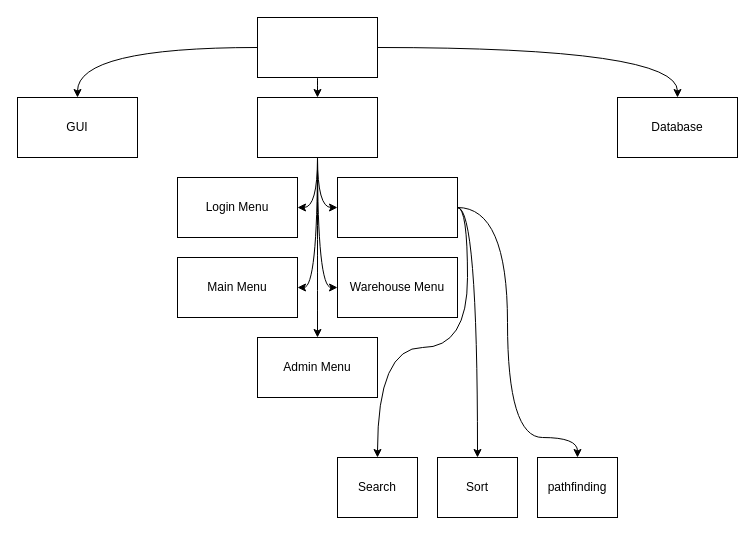
Some shapes in this 755 by 535 pixel diagram are drawn without their labels. Here are the shapes that lost their labels. From the top down, the box of each, then its label:
(256, 16, 378, 78): Inventory management system
(256, 96, 378, 158): Windows
(336, 176, 458, 238): Inventory Menu
